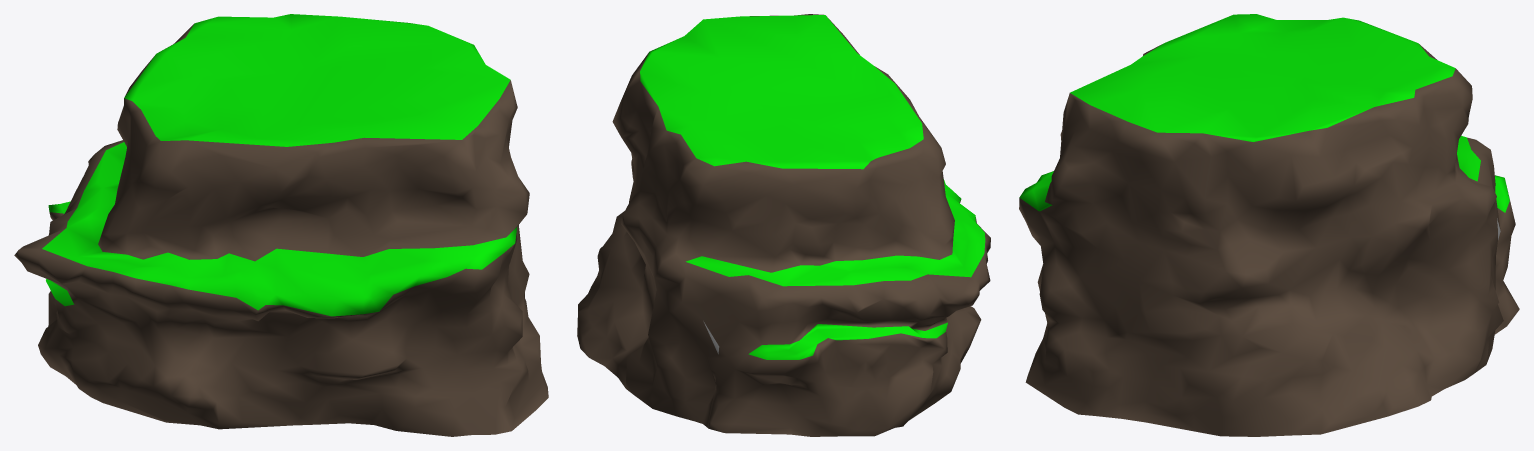
File: Cliff_5_Beach_Low.fbx
The picture shows the model from 3 angles, left to right: view 1: azimuth 30°, elevation 25°; view 2: azimuth 150°, elevation 25°; view 3: azimuth 270°, elevation 25°; orthographic projection. The views are drawn at different scales.
Visible parts, largest first — view 1: Cliff_5_Beach1_Low; view 2: Cliff_5_Beach1_Low; view 3: Cliff_5_Beach1_Low.
Boxes of the visible parts, x1,y1,x2,y2 form: Cliff_5_Beach1_Low: (14, 14, 548, 436); Cliff_5_Beach1_Low: (577, 14, 990, 436); Cliff_5_Beach1_Low: (1019, 14, 1519, 436).
Bounding box in the file's own units: 1578 × 965 × 1511.
